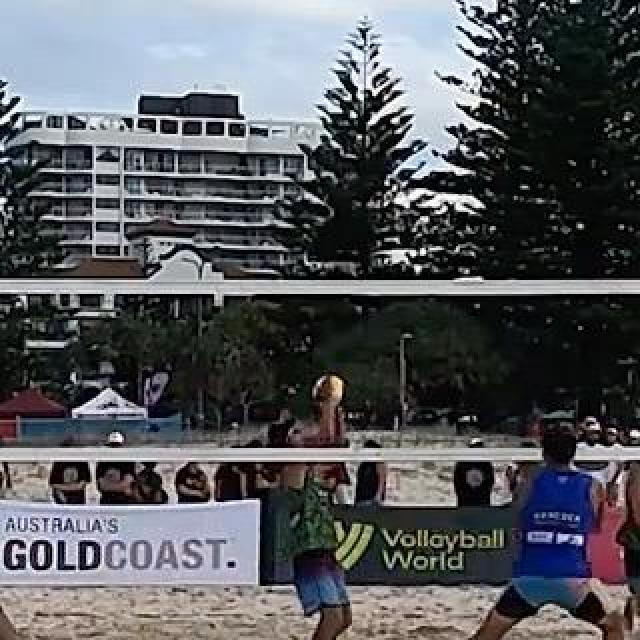volleyball: (312, 375, 344, 407)
